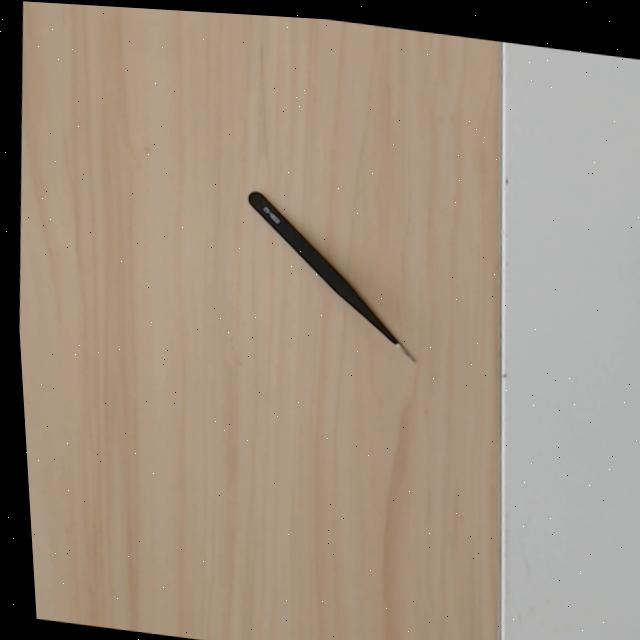Tweezers: (242, 187, 420, 365)
